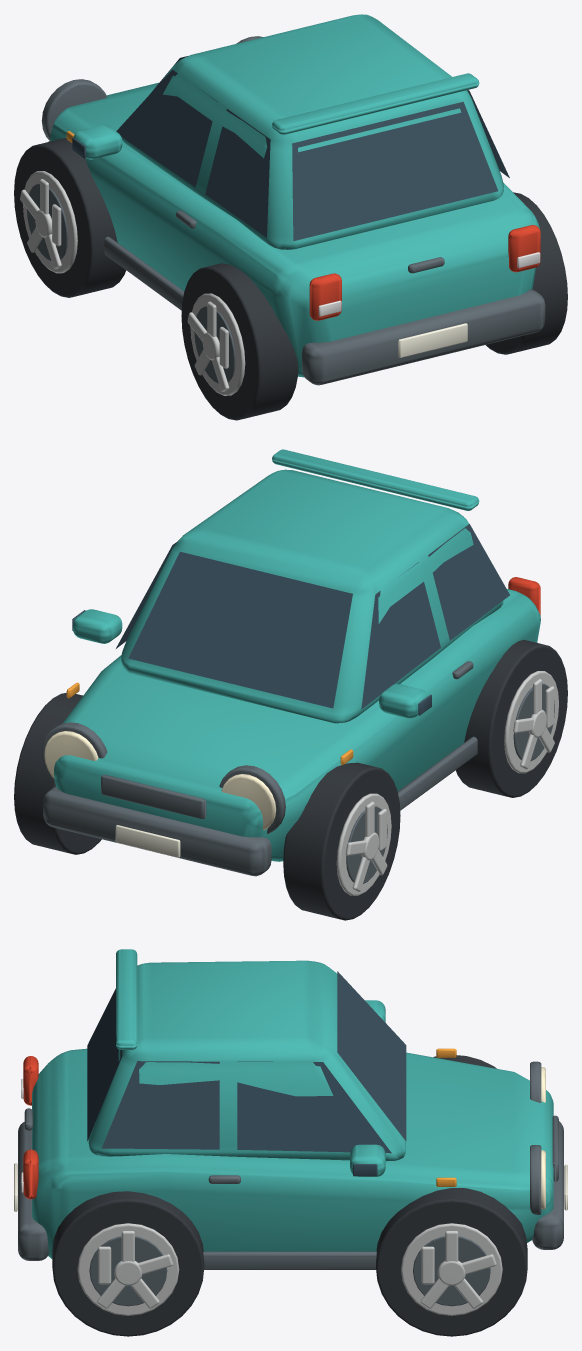
Rendered from little_car.fbx.
The picture shows the model from 3 angles, top to bottom: view 1: azimuth 30°, elevation 25°; view 2: azimuth 150°, elevation 25°; view 3: azimuth 270°, elevation 25°; orthographic projection. The views are drawn at different scales.
Visible parts, largest first — view 1: Body, Tyre.001, Tyre, Tyre.003, AlloyRim.001, AlloyRim, DarkInset.001, DarkInset; view 2: Body, Tyre, Tyre.001, Tyre.002, AlloyRim.001, AlloyRim, DarkInset, DarkInset.001; view 3: Body, Tyre.002, Tyre.003, AlloyRim.002, AlloyRim.003, DarkInset.002, DarkInset.003, Hub.002, Hub.003, Spoke.014, Spoke.019.
Part boxes in pixels (bbox=[...]): Body: bbox=[41, 14, 545, 385]; Tyre.001: bbox=[181, 263, 298, 420]; Tyre: bbox=[14, 138, 126, 297]; Tyre.003: bbox=[486, 192, 567, 354]; AlloyRim.001: bbox=[190, 293, 245, 395]; AlloyRim: bbox=[23, 171, 77, 273]; DarkInset.001: bbox=[194, 306, 235, 383]; DarkInset: bbox=[27, 183, 68, 260]; Body: bbox=[41, 449, 540, 876]; Tyre: bbox=[283, 762, 400, 920]; Tyre.001: bbox=[456, 640, 567, 797]; Tyre.002: bbox=[14, 693, 101, 854]; AlloyRim.001: bbox=[504, 671, 558, 773]; AlloyRim: bbox=[336, 793, 391, 895]; DarkInset: bbox=[346, 806, 387, 883]; DarkInset.001: bbox=[513, 683, 554, 761]; Body: bbox=[14, 949, 567, 1269]; Tyre.002: bbox=[376, 1188, 527, 1336]; Tyre.003: bbox=[52, 1191, 204, 1336]; AlloyRim.002: bbox=[401, 1223, 502, 1315]; AlloyRim.003: bbox=[77, 1223, 179, 1315]; DarkInset.002: bbox=[413, 1236, 490, 1306]; DarkInset.003: bbox=[89, 1236, 167, 1306]; Hub.002: bbox=[437, 1260, 465, 1285]; Hub.003: bbox=[114, 1261, 142, 1285]; Spoke.014: bbox=[421, 1246, 434, 1284]; Spoke.019: bbox=[98, 1246, 111, 1284].
Bounding box in the file's own units: 217 × 167 × 310.
